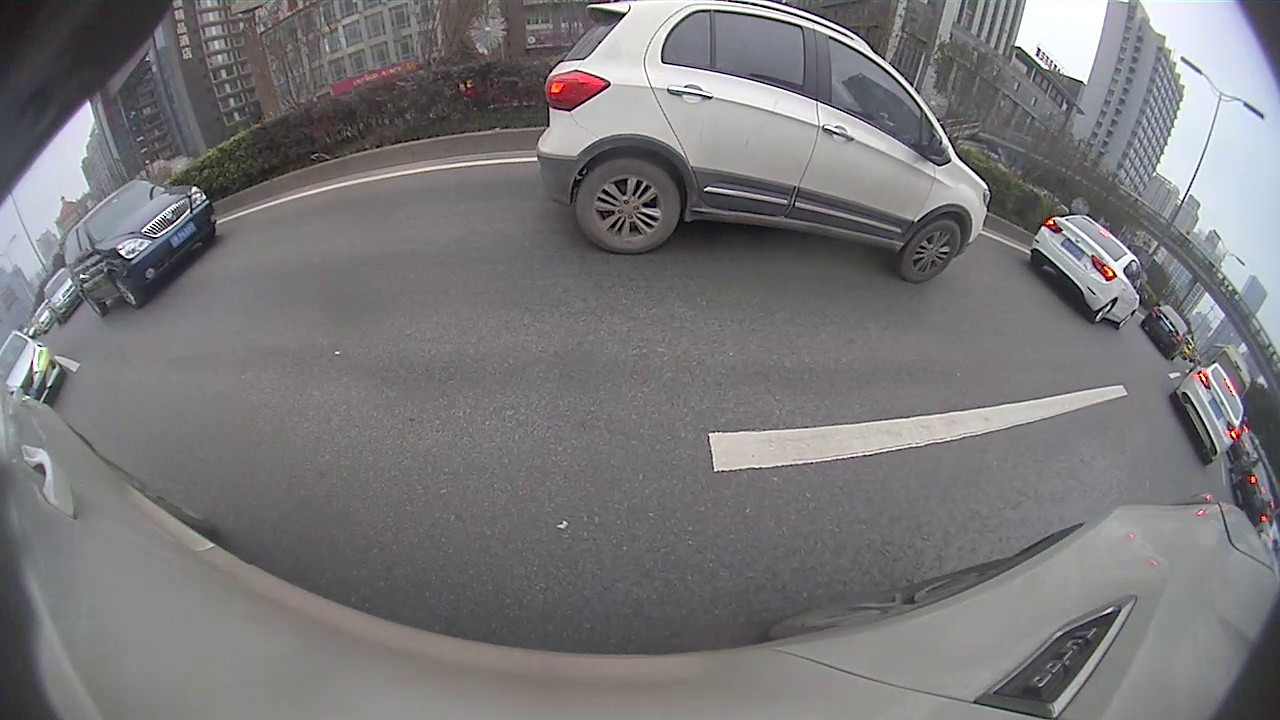car: (536, 1, 993, 284), (64, 178, 219, 319), (1028, 212, 1144, 333), (1170, 363, 1245, 465), (1140, 304, 1191, 363)
front: (899, 221, 966, 282), (108, 270, 140, 307)
rear: (575, 155, 681, 257), (1092, 298, 1119, 325)
